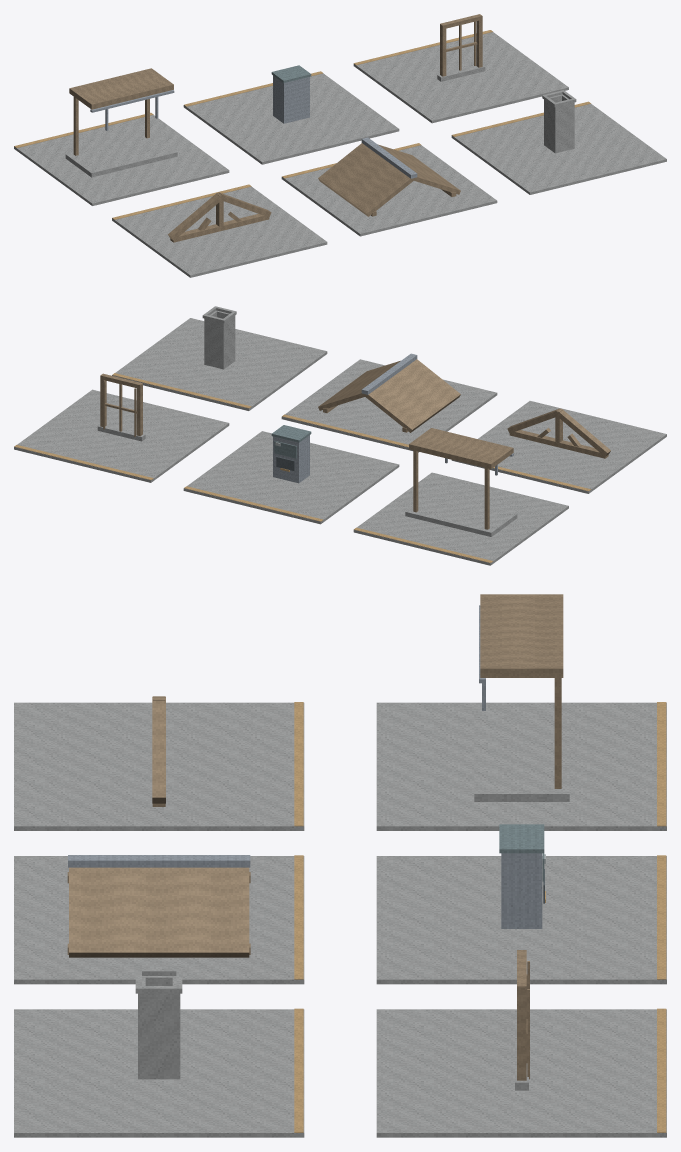
The model's file is level_blockout_kit_wld_16_p03.glb.
3 renders of one model, top to bottom at view 1: azimuth 30°, elevation 25°; view 2: azimuth 150°, elevation 25°; view 3: azimuth 270°, elevation 25°, orthographic. The views are drawn at different scales.
Visible parts, largest first — view 1: level_blockout_kit_wld_16_p03; view 2: level_blockout_kit_wld_16_p03; view 3: level_blockout_kit_wld_16_p03.
Boxes of the visible parts, x1,y1,x2,y2 form: level_blockout_kit_wld_16_p03: [14, 14, 666, 277]; level_blockout_kit_wld_16_p03: [14, 306, 666, 565]; level_blockout_kit_wld_16_p03: [14, 594, 666, 1137].
Bounding box in the file's own units: 19.65 × 2.93 × 12.6.
Materials: 7 (7 with a texture image).
